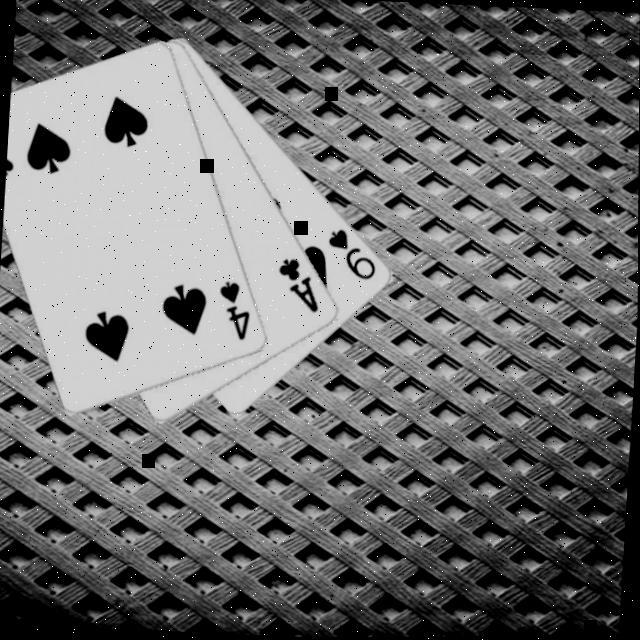4S: (213, 279, 254, 345), (6, 116, 19, 180)
9S: (322, 226, 381, 285)
AC: (272, 256, 324, 318)
